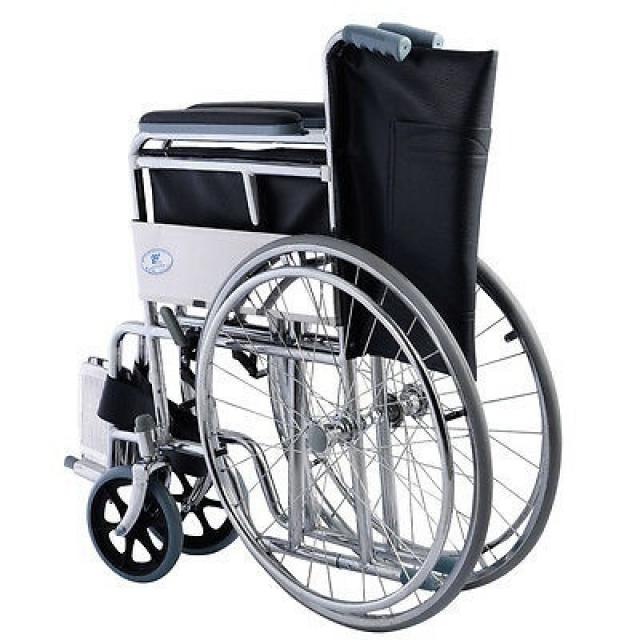wheelchair: (52, 4, 574, 632)
